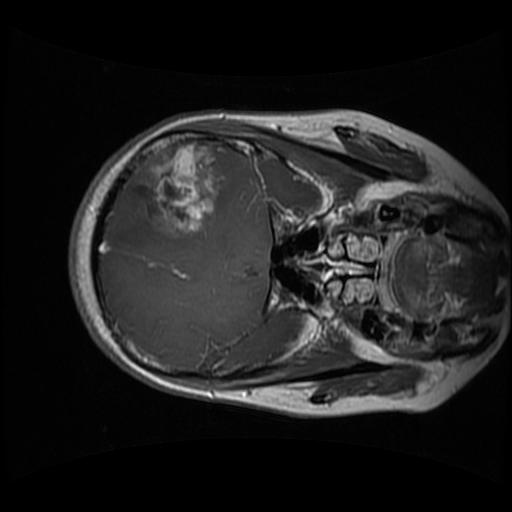glioma: (130, 141, 228, 246)
